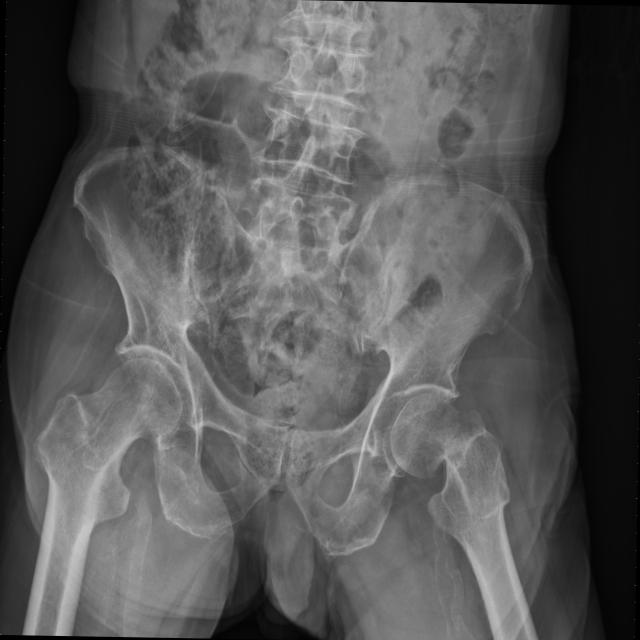left-neck: (390, 393, 457, 478)
normal-right: (33, 357, 182, 582), (427, 409, 514, 580)
